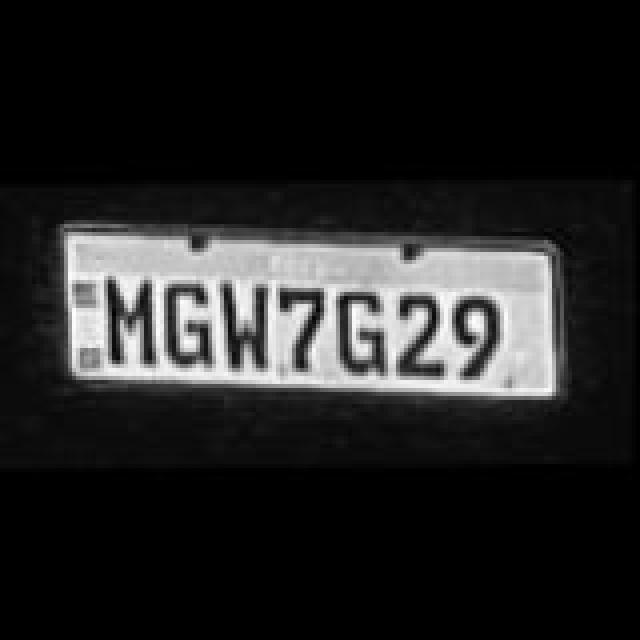2: (396, 290, 444, 374)
7: (280, 282, 328, 370)
9: (456, 290, 504, 374)
G: (162, 280, 214, 368), (340, 286, 388, 374)
M: (106, 276, 158, 364)
W: (222, 280, 274, 368)
